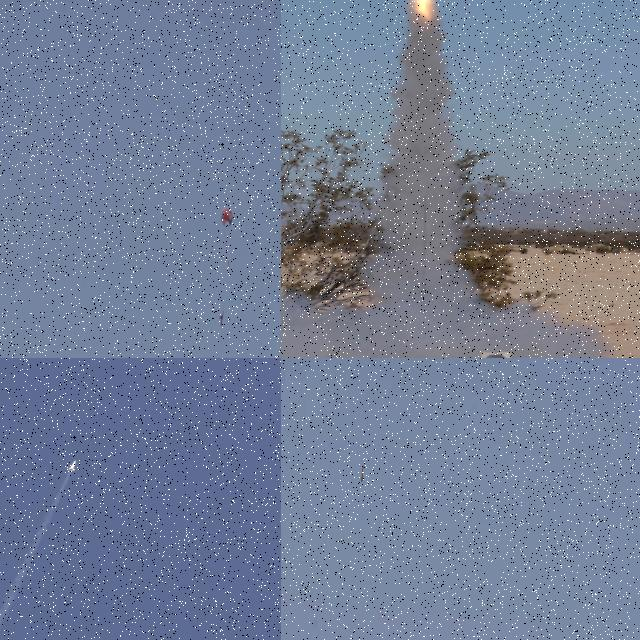Rocket: (68, 461, 76, 472), (361, 466, 364, 482)
